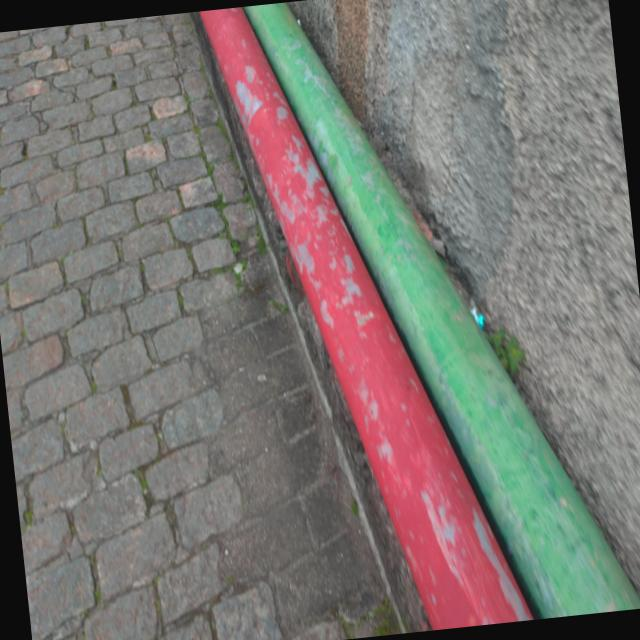gas: (248, 2, 640, 618), (198, 6, 537, 629)
